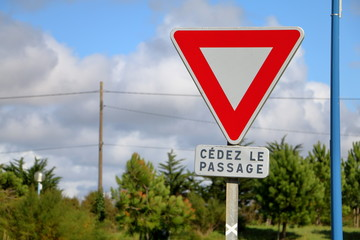sign: (168, 27, 307, 178)
